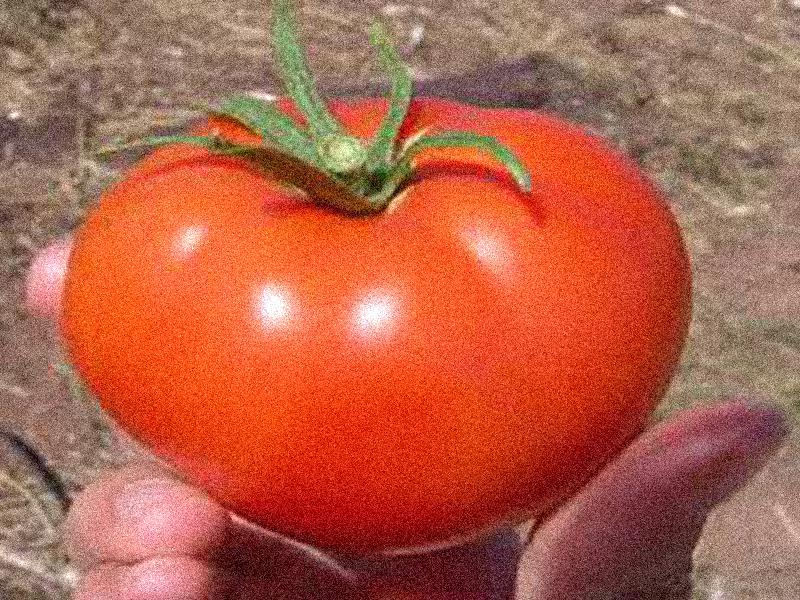Tomato: (63, 97, 691, 549)
